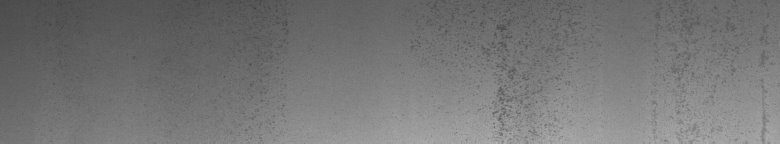ib: (412, 4, 582, 136)
